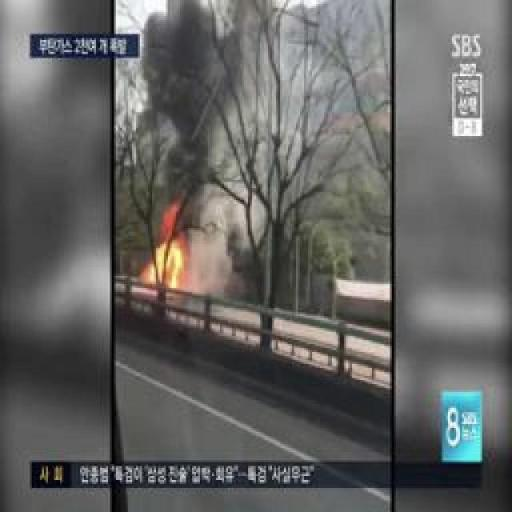smoke: (140, 215, 190, 291)
